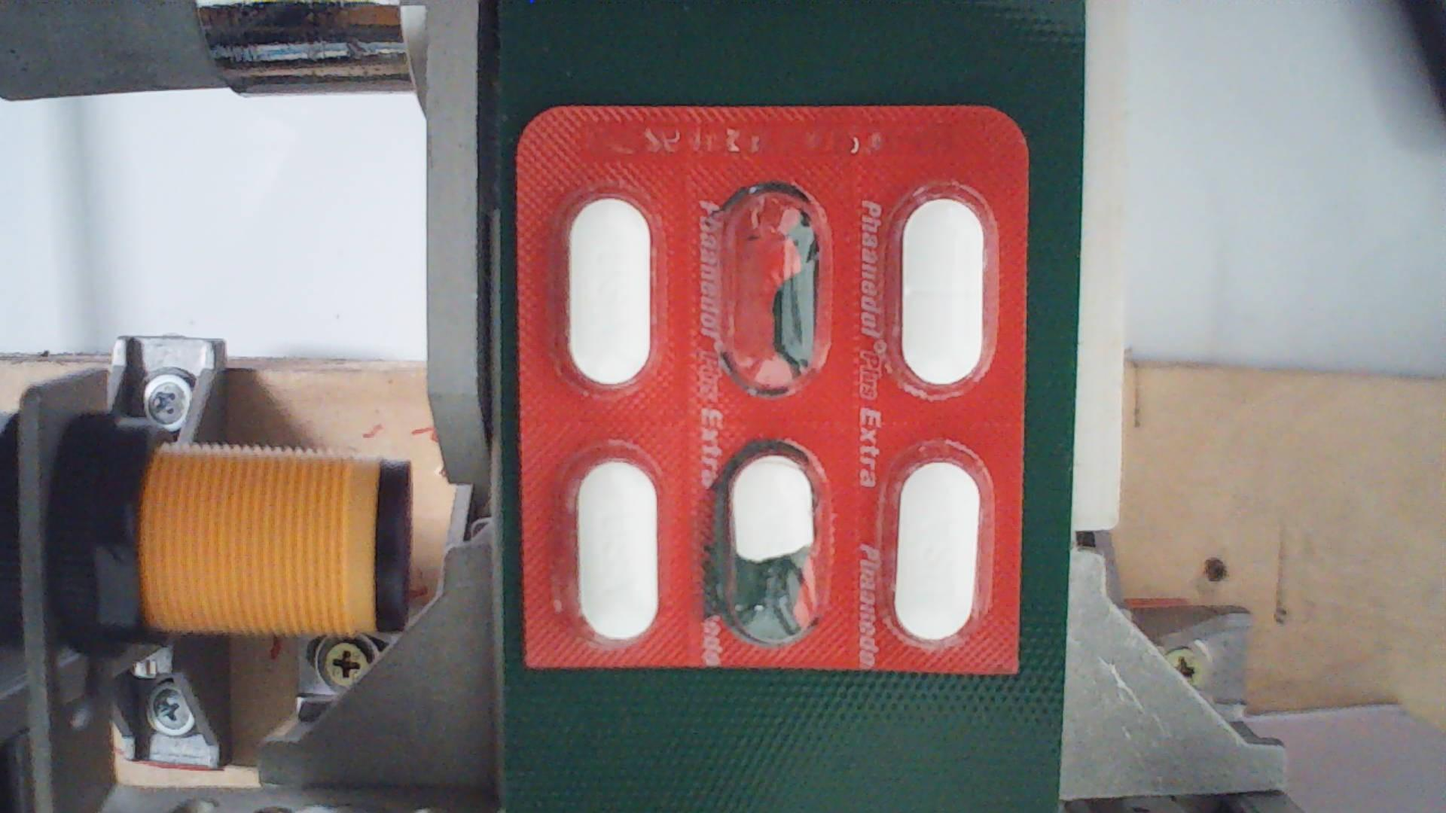Empty: (712, 179, 841, 406)
Full: (880, 434, 1009, 662), (550, 433, 679, 661), (878, 172, 1007, 399), (553, 181, 682, 408)
Partial: (708, 423, 837, 650)
